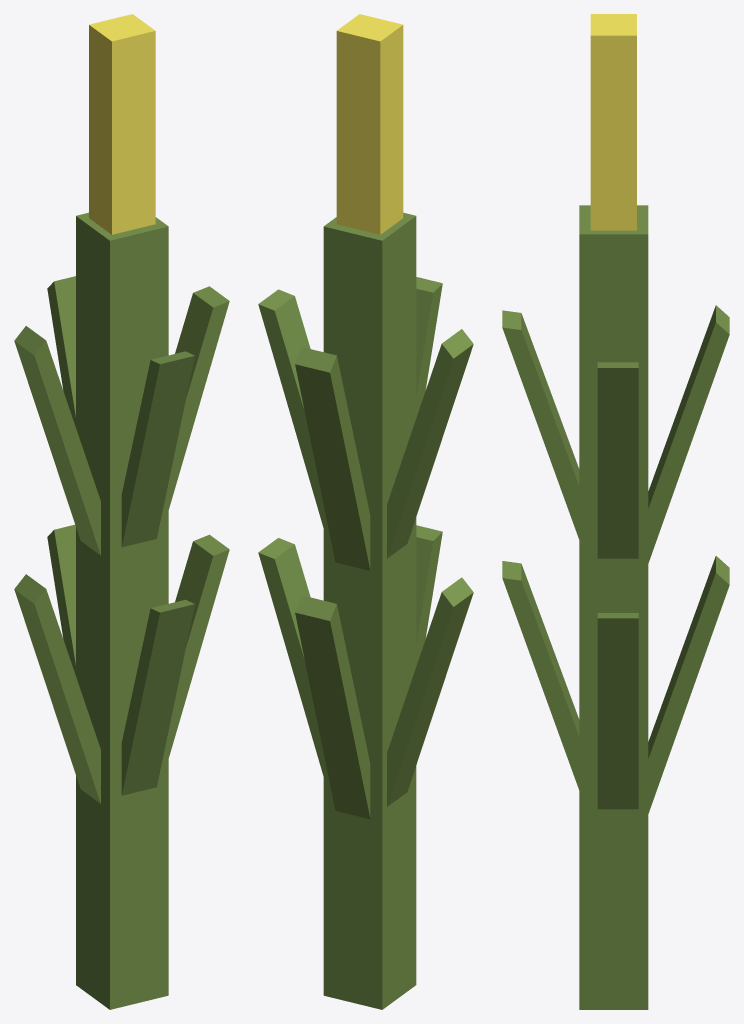
Rendered from herb2.fbx.
3 views of the same model, side by side, from view 1: azimuth 30°, elevation 25°; view 2: azimuth 150°, elevation 25°; view 3: azimuth 270°, elevation 25° (orthographic).
Visible parts, largest first — view 1: Cube_15; view 2: Cube_15; view 3: Cube_15.
Boxes of the visible parts, x1,y1,x2,y2 form: Cube_15: (14,14,229,1009); Cube_15: (258,14,473,1009); Cube_15: (502,14,729,1009).
Size of the model in its own units: 34.53 by 163 by 34.53.
